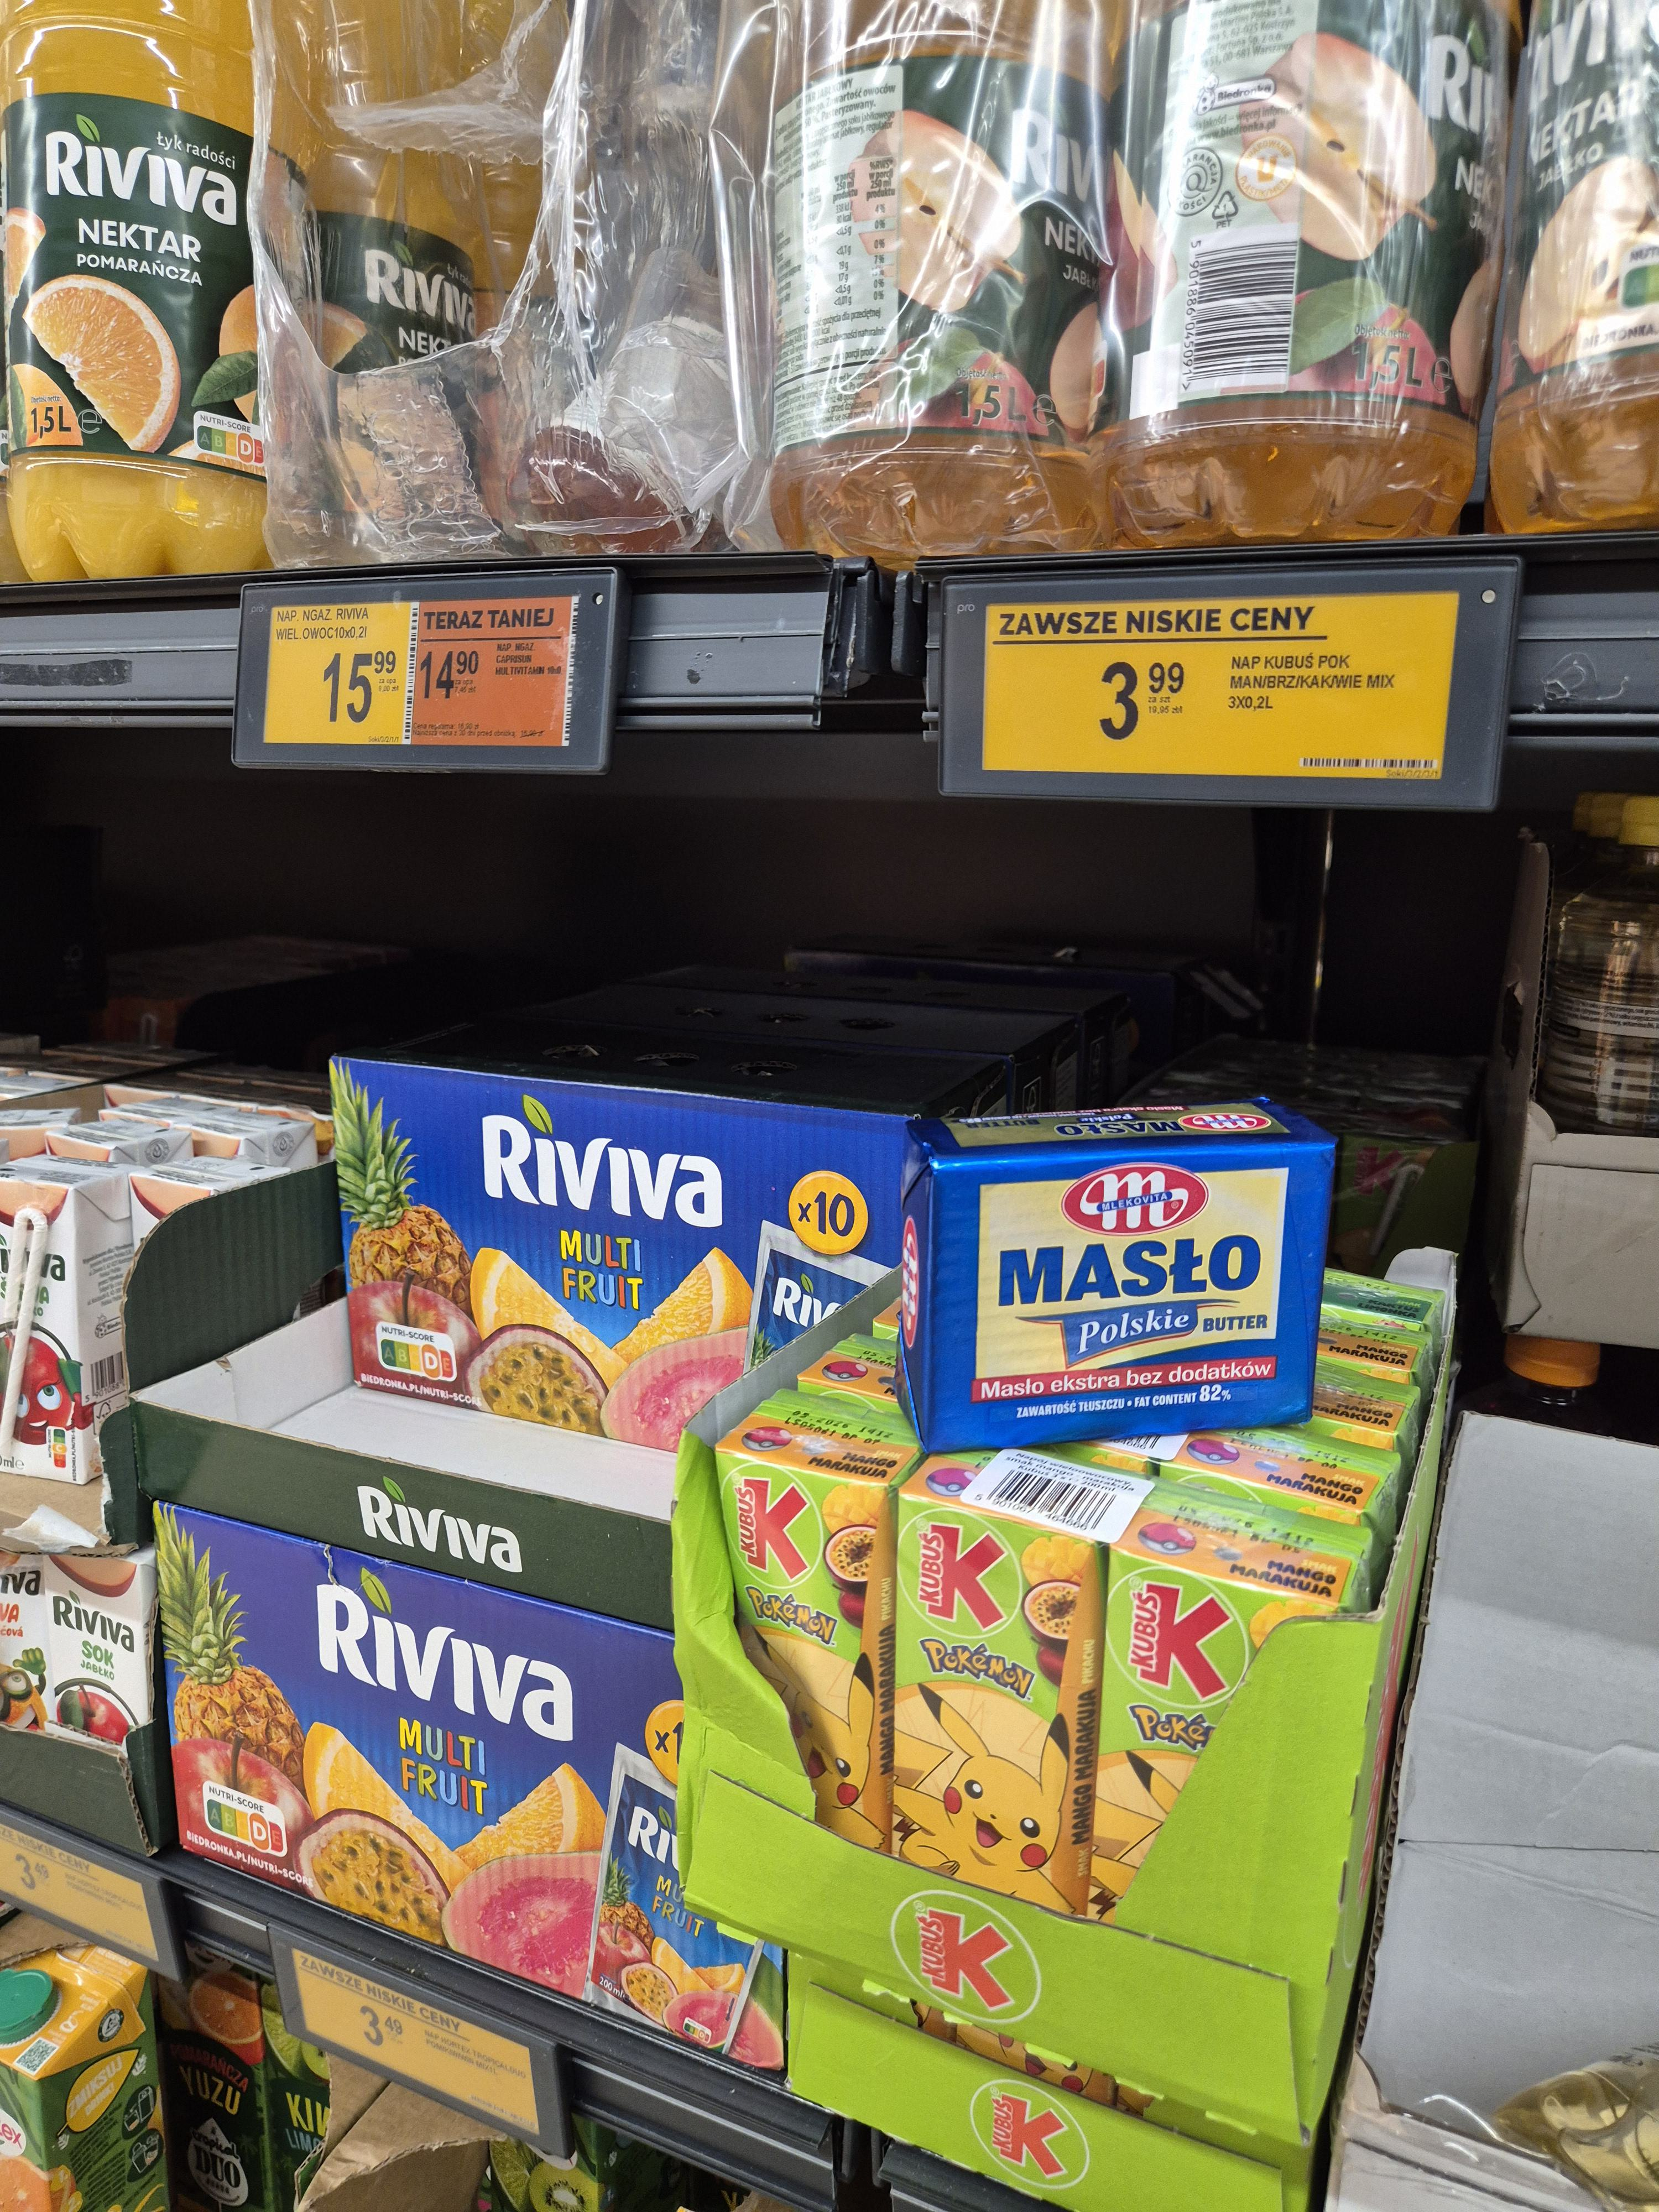Butter: (897, 1089, 1347, 1454)
